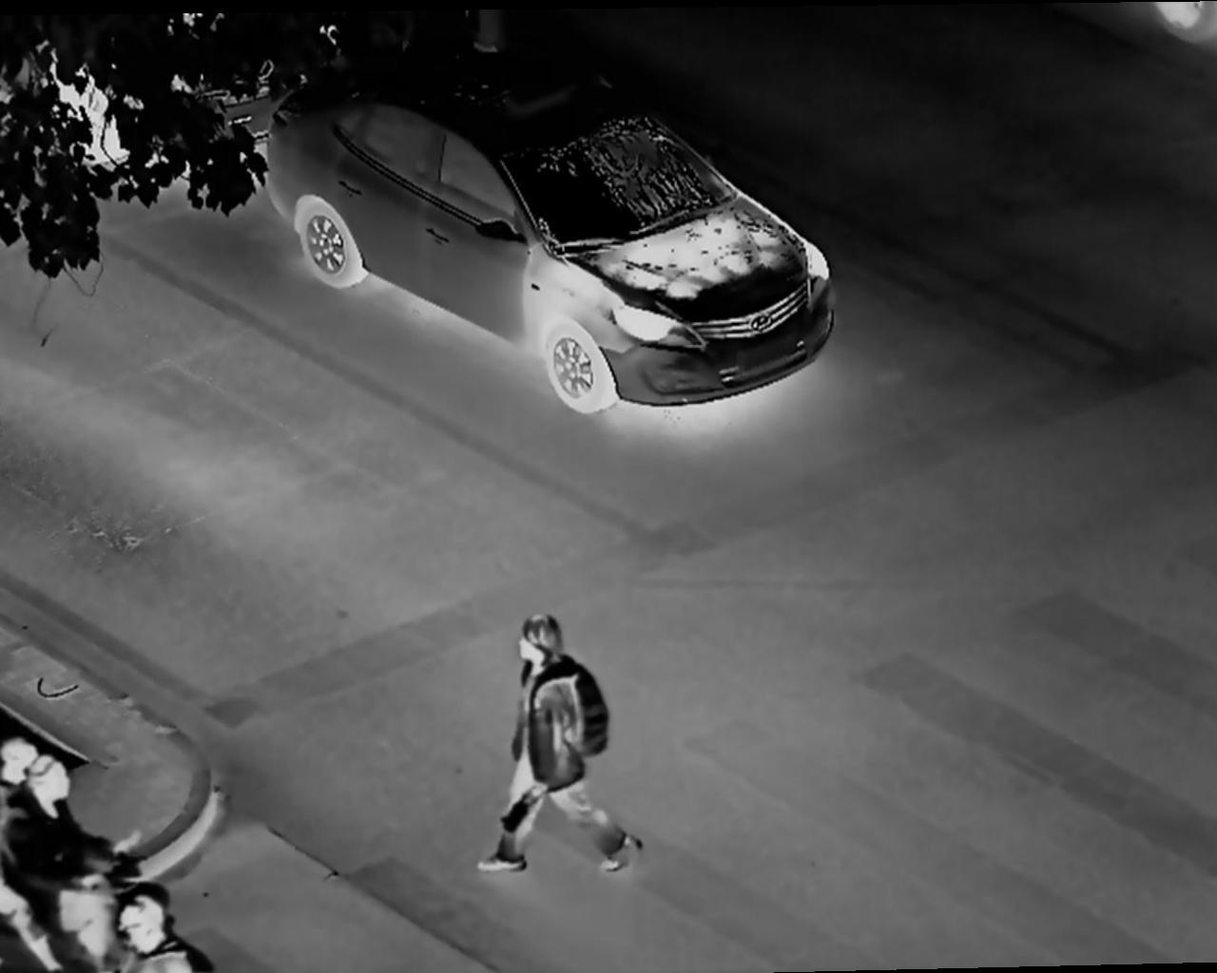person: (479, 613, 653, 885), (18, 756, 133, 963)
